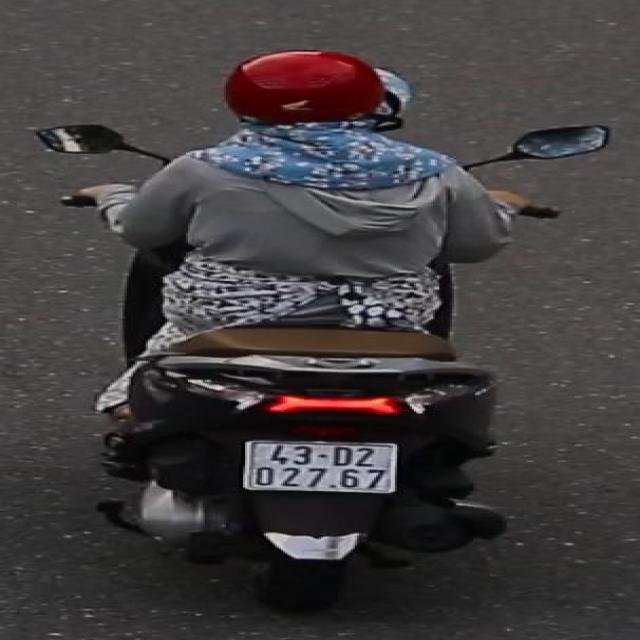LP: (237, 434, 408, 498)
helmet: (205, 45, 427, 144)
